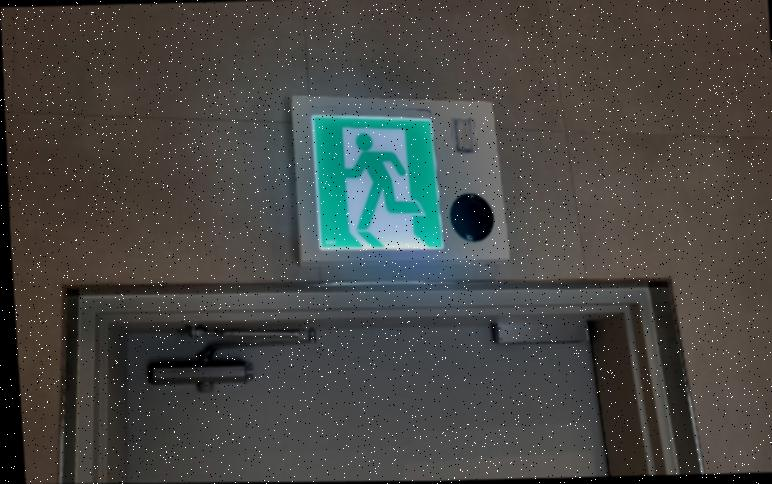emergency_exit: (290, 95, 510, 266), (310, 112, 445, 252)
